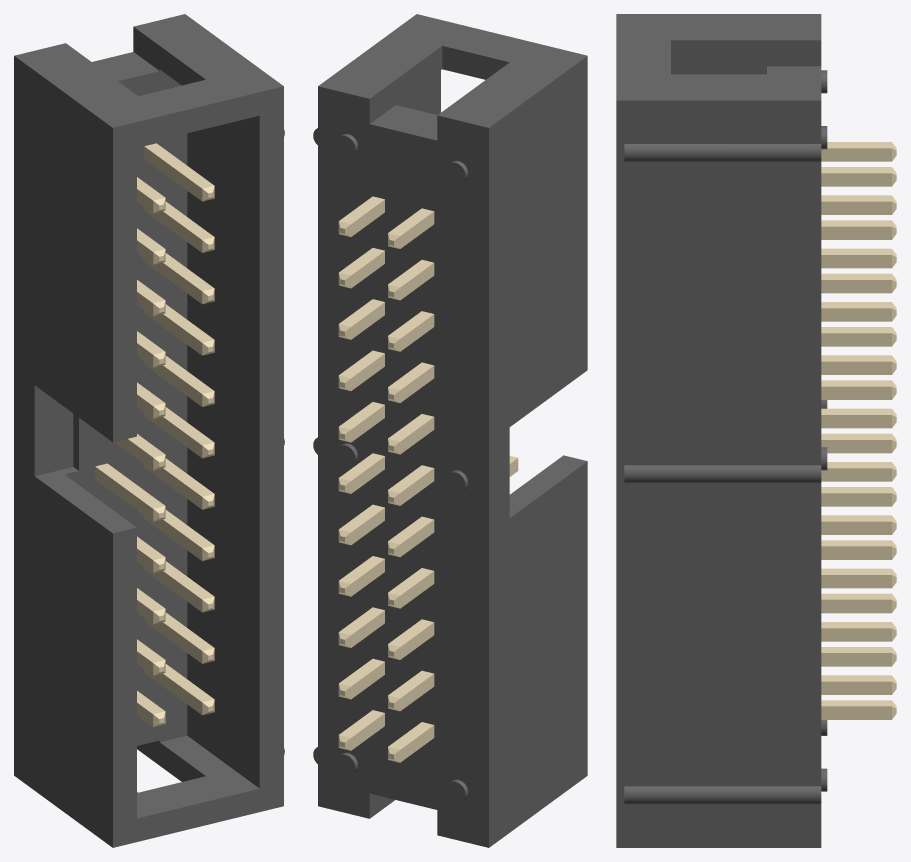
The model's file is IDC-Header_2x11_P2.54mm_Vertical.glb.
3 views of the same model, side by side, from view 1: azimuth 30°, elevation 25°; view 2: azimuth 150°, elevation 25°; view 3: azimuth 270°, elevation 25° (orthographic). The views are drawn at different scales.
Parts seen in each view (by area): view 1: Shape_IndexedFaceSet.008, Shape_IndexedFaceSet.039, Shape_IndexedFaceSet.023, Shape_IndexedFaceSet.025, Shape_IndexedFaceSet.009, Shape_IndexedFaceSet.026, Shape_IndexedFaceSet.028, Shape_IndexedFaceSet.027, Shape_IndexedFaceSet.012, Shape_IndexedFaceSet.005, Shape_IndexedFaceSet.011, Shape_IndexedFaceSet.183 (+23 smaller); view 2: Shape_IndexedFaceSet.001, Shape_IndexedFaceSet.008, Shape_IndexedFaceSet.009, Shape_IndexedFaceSet.012, Shape_IndexedFaceSet.027, Shape_IndexedFaceSet.011, Shape_IndexedFaceSet.030, Shape_IndexedFaceSet.039, Shape_IndexedFaceSet.253; view 3: Shape_IndexedFaceSet.002, Shape_IndexedFaceSet.009, Shape_IndexedFaceSet.010, Shape_IndexedFaceSet, Shape_IndexedFaceSet.013, Shape_IndexedFaceSet.014, Shape_IndexedFaceSet.074, Shape_IndexedFaceSet.040, Shape_IndexedFaceSet.046, Shape_IndexedFaceSet.060, Shape_IndexedFaceSet.088, Shape_IndexedFaceSet.102 (+17 smaller).
Boxes of the visible parts, x1=… form: Shape_IndexedFaceSet.008: x1=14, y1=56, x2=112, y2=847; Shape_IndexedFaceSet.039: x1=187, y1=115, x2=259, y2=788; Shape_IndexedFaceSet.023: x1=113, y1=86, x2=283, y2=847; Shape_IndexedFaceSet.025: x1=65, y1=69, x2=187, y2=745; Shape_IndexedFaceSet.009: x1=14, y1=14, x2=283, y2=127; Shape_IndexedFaceSet.026: x1=137, y1=735, x2=259, y2=818; Shape_IndexedFaceSet.028: x1=34, y1=385, x2=73, y2=476; Shape_IndexedFaceSet.027: x1=35, y1=467, x2=136, y2=533; Shape_IndexedFaceSet.012: x1=133, y1=27, x2=205, y2=85; Shape_IndexedFaceSet.005: x1=137, y1=740, x2=205, y2=781; Shape_IndexedFaceSet.011: x1=92, y1=52, x2=158, y2=80; Shape_IndexedFaceSet.183: x1=144, y1=146, x2=202, y2=201; Shape_IndexedFaceSet.001: x1=313, y1=86, x2=488, y2=847; Shape_IndexedFaceSet.008: x1=489, y1=56, x2=587, y2=847; Shape_IndexedFaceSet.009: x1=318, y1=14, x2=587, y2=127; Shape_IndexedFaceSet.012: x1=369, y1=46, x2=442, y2=123; Shape_IndexedFaceSet.027: x1=509, y1=455, x2=587, y2=517; Shape_IndexedFaceSet.011: x1=370, y1=105, x2=437, y2=140; Shape_IndexedFaceSet.030: x1=442, y1=46, x2=509, y2=79; Shape_IndexedFaceSet.039: x1=396, y1=70, x2=440, y2=114; Shape_IndexedFaceSet.253: x1=400, y1=458, x2=518, y2=556; Shape_IndexedFaceSet.002: x1=616, y1=100, x2=821, y2=847; Shape_IndexedFaceSet.009: x1=616, y1=14, x2=821, y2=100; Shape_IndexedFaceSet.010: x1=671, y1=40, x2=821, y2=66; Shape_IndexedFaceSet: x1=624, y1=786, x2=821, y2=804; Shape_IndexedFaceSet.013: x1=624, y1=144, x2=821, y2=162; Shape_IndexedFaceSet.014: x1=624, y1=465, x2=821, y2=483; Shape_IndexedFaceSet.074: x1=821, y1=599, x2=891, y2=613; Shape_IndexedFaceSet.040: x1=671, y1=64, x2=766, y2=74; Shape_IndexedFaceSet.046: x1=821, y1=706, x2=891, y2=719; Shape_IndexedFaceSet.060: x1=821, y1=653, x2=891, y2=666; Shape_IndexedFaceSet.088: x1=821, y1=546, x2=891, y2=559; Shape_IndexedFaceSet.102: x1=821, y1=493, x2=891, y2=506.
Bounding box in the file's own units: 3.58 × 14.02 × 4.76.
